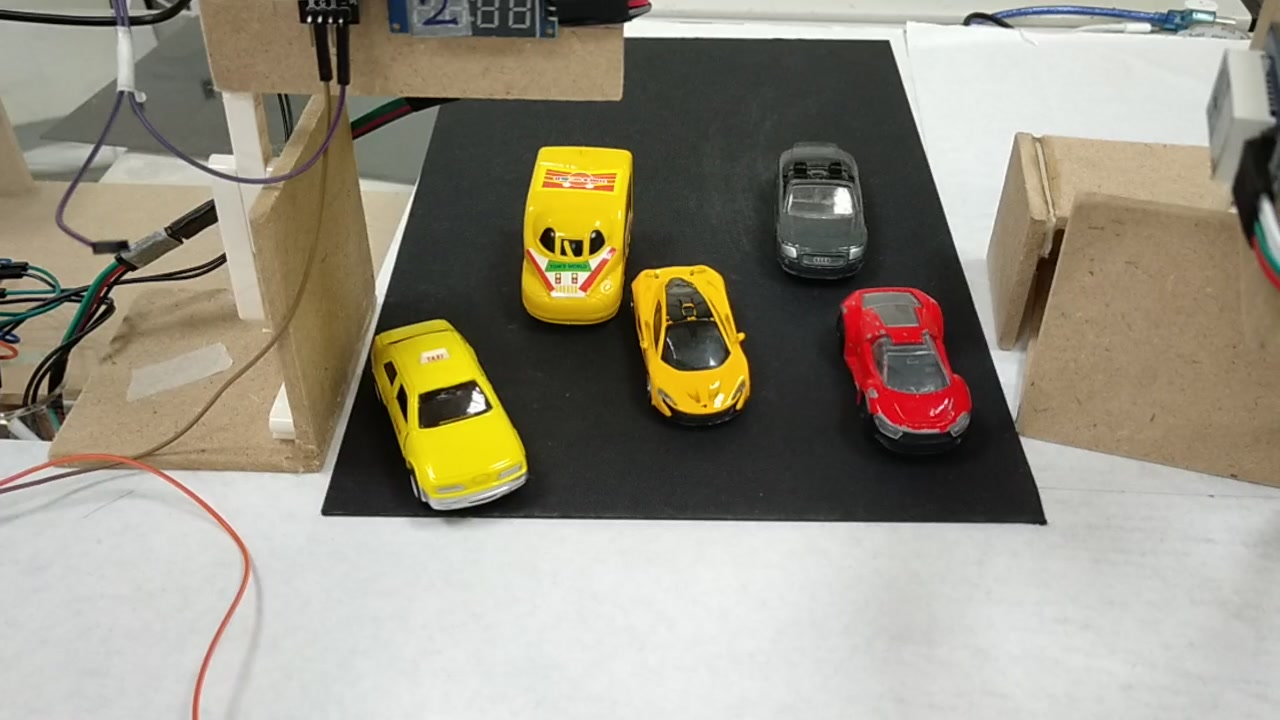car: (367, 328, 526, 509), (840, 286, 975, 452), (633, 269, 748, 421), (776, 142, 868, 281)
